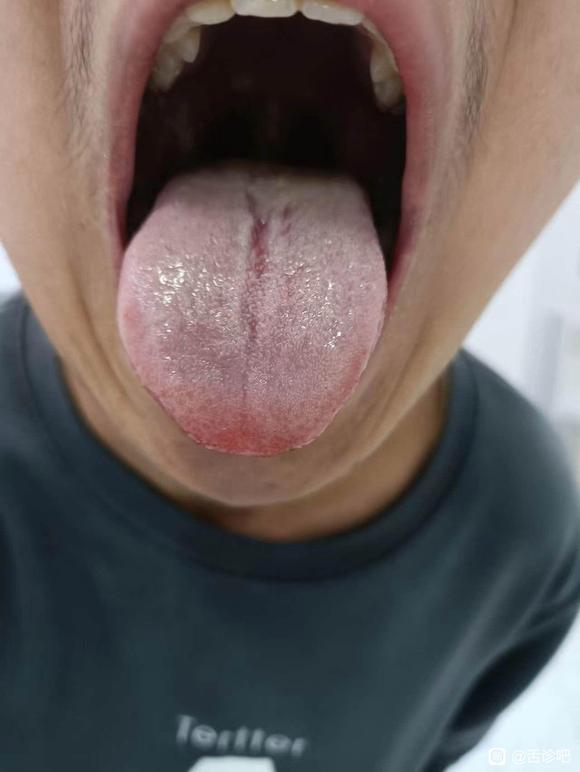baitaishe: (119, 168, 386, 456)
liewenshe: (239, 183, 293, 400)
